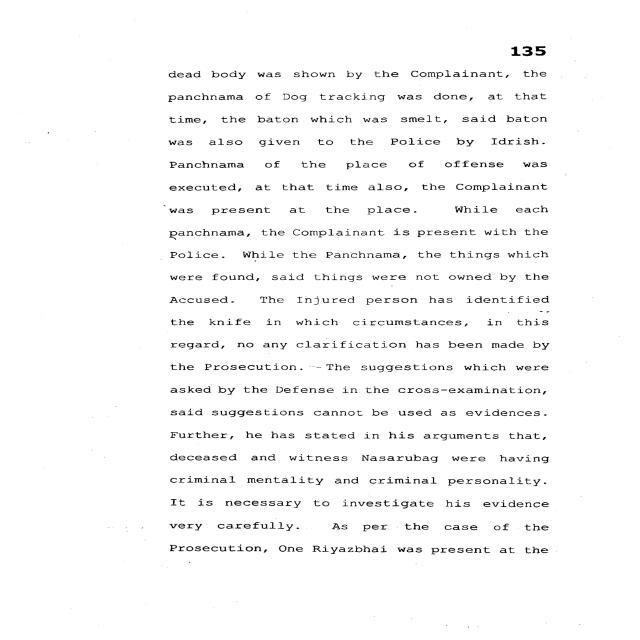page-number: (424, 0, 631, 63)
